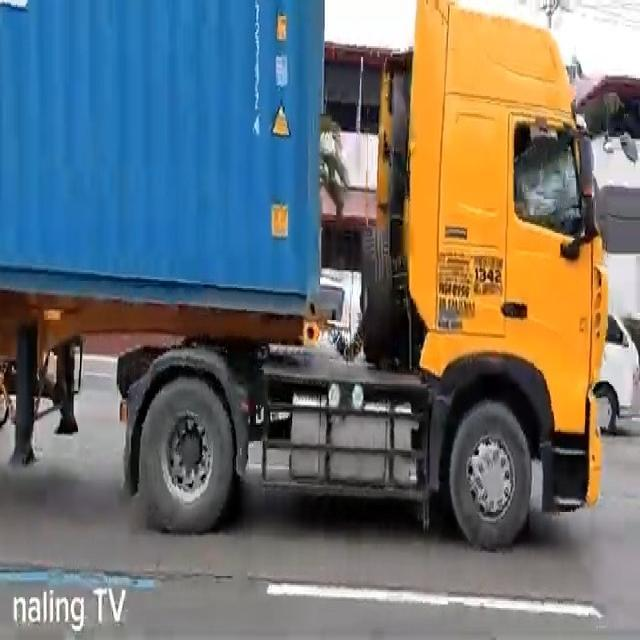truck: (0, 0, 606, 545)
